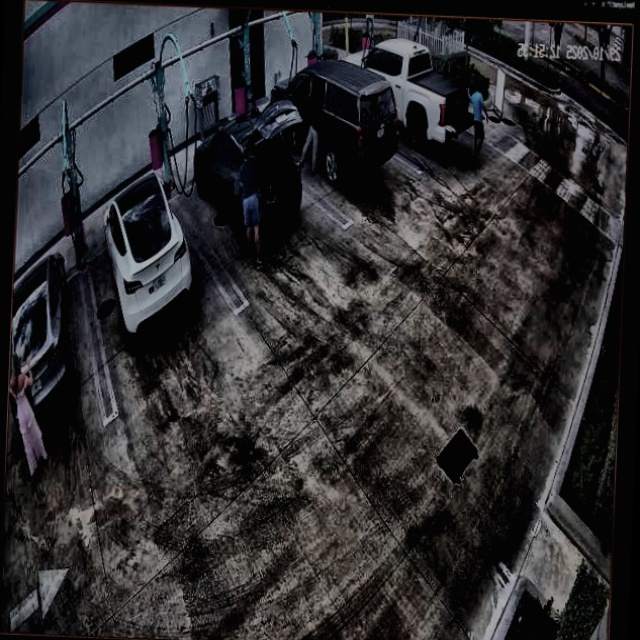Car: (191, 91, 305, 243), (269, 58, 400, 189), (98, 170, 196, 338)
